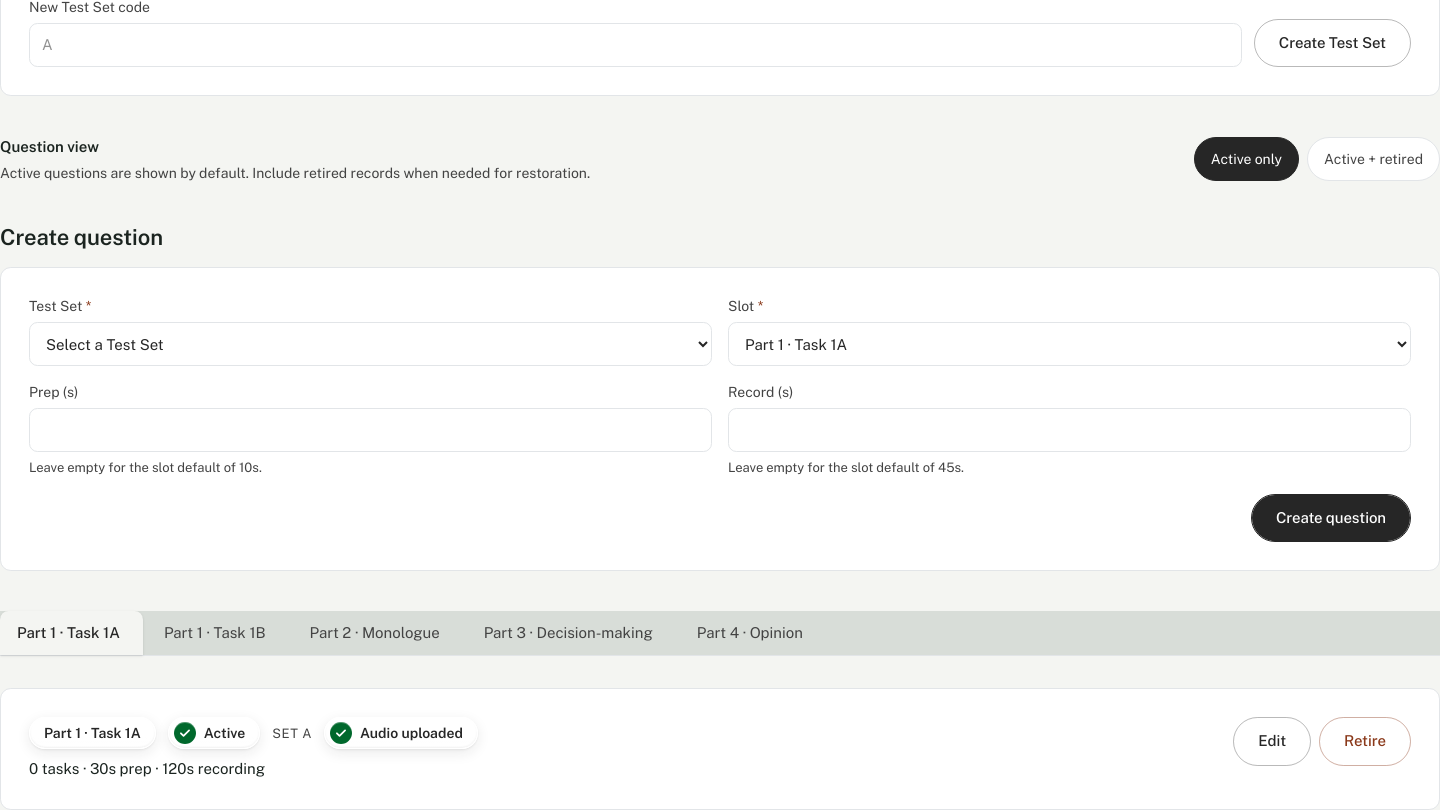
Test: AdminQuestionsPage edit mode › keeps the Question visible and reports a retirement failure
(page scrolled)
Step 1. Click the button "Retire" → (1365, 742), box [1319,717,1411,766]
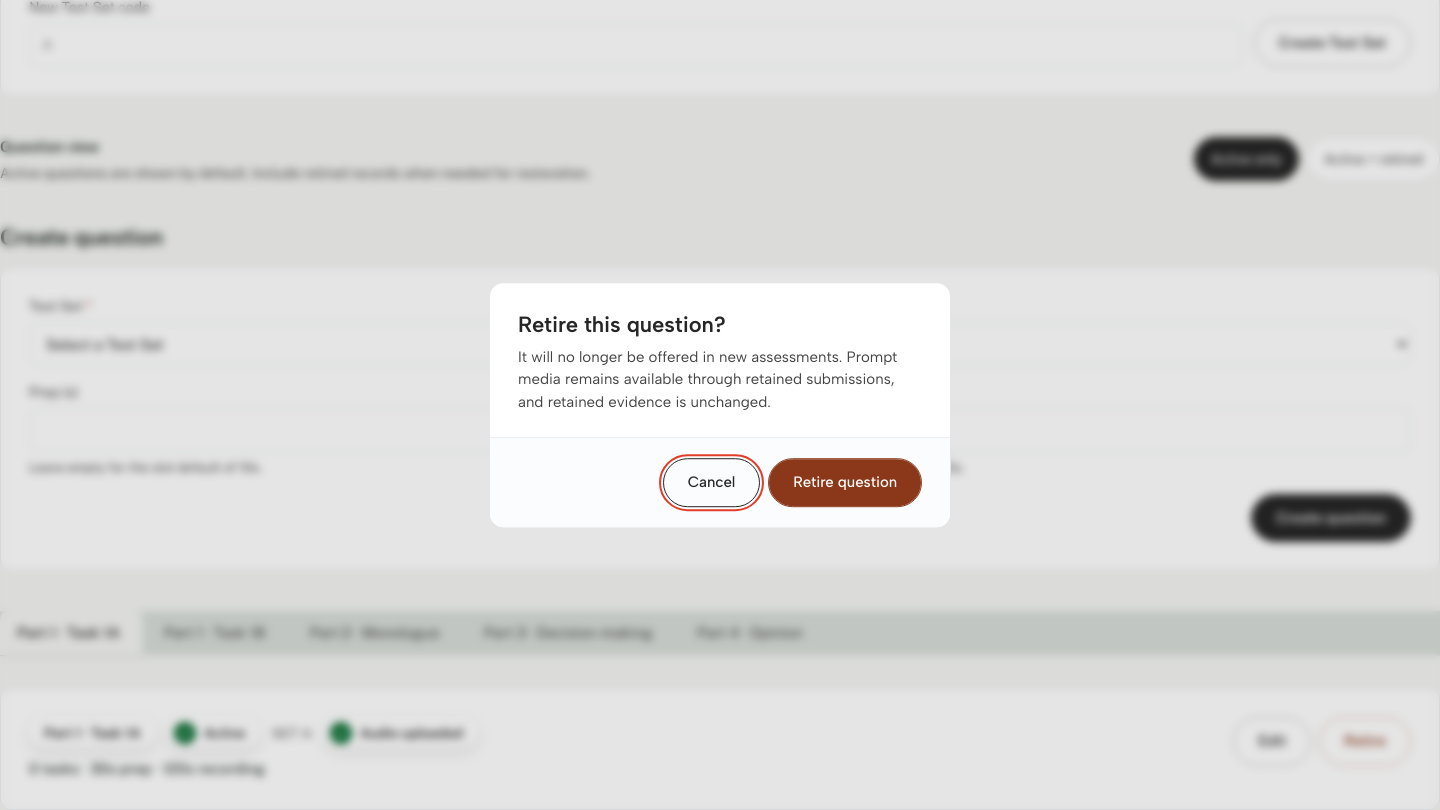
Step 2. Click the button "Retire question" → (845, 483), box [768,458,922,507]
(page scrolled)
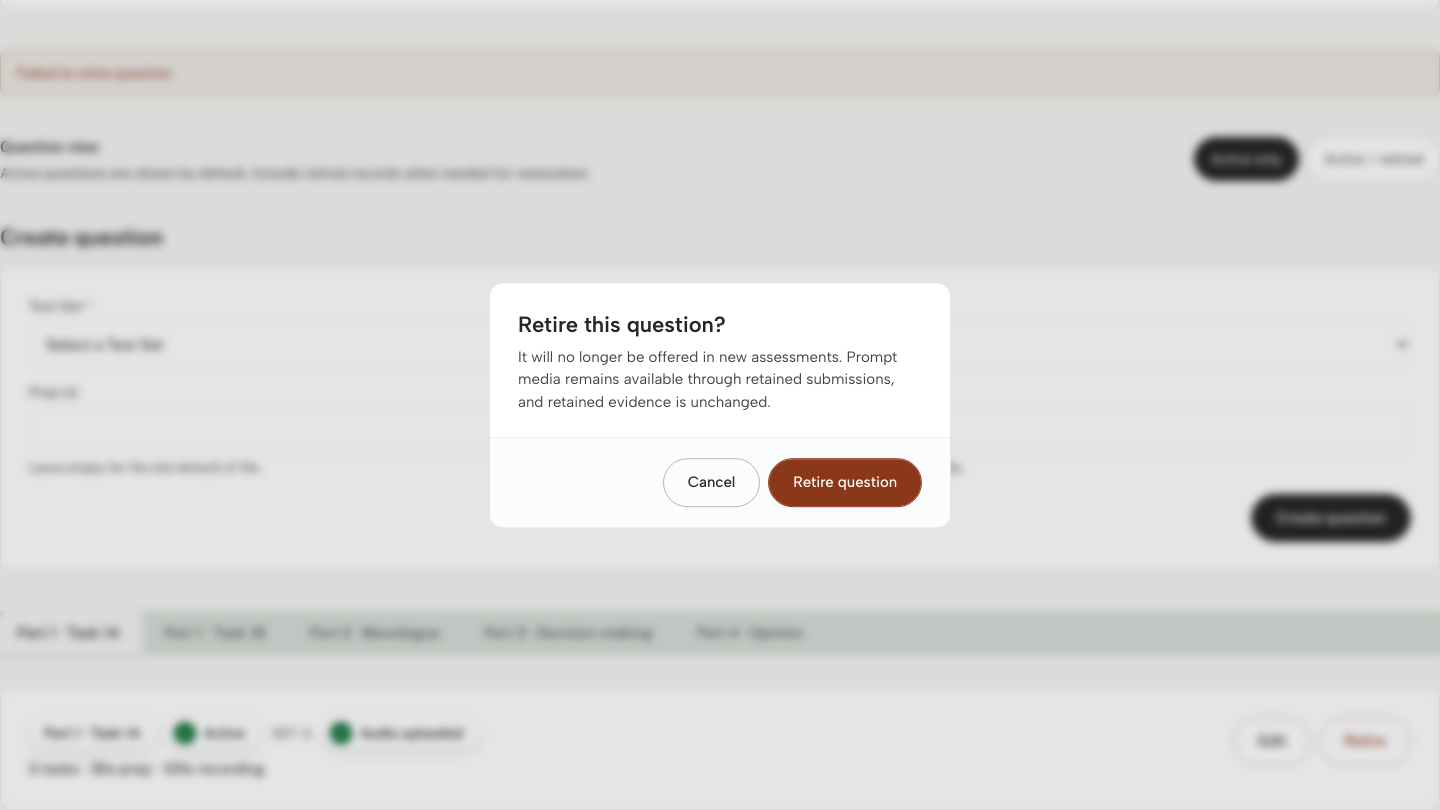
Expected: the button "Retire" is shown, [1319,717,1411,766]
Expected: the text "Failed to retire question." is shown, [0,50,1439,96]
